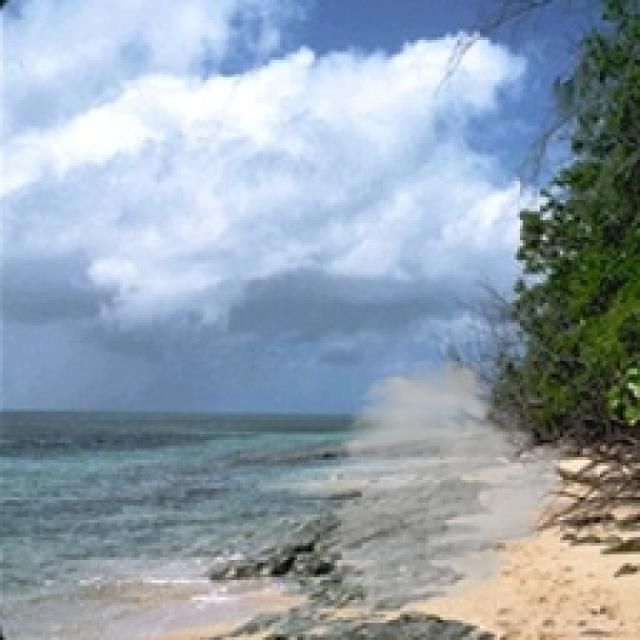Smoke: (317, 354, 580, 614)
